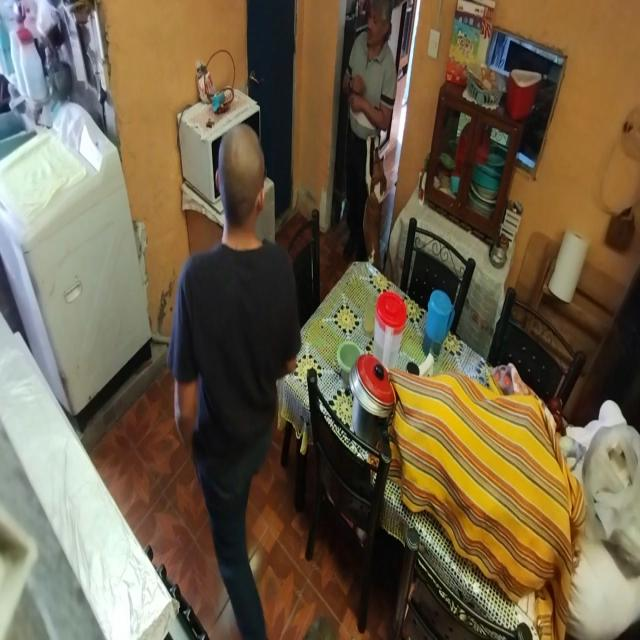adult: (171, 121, 296, 640), (344, 0, 398, 262)
